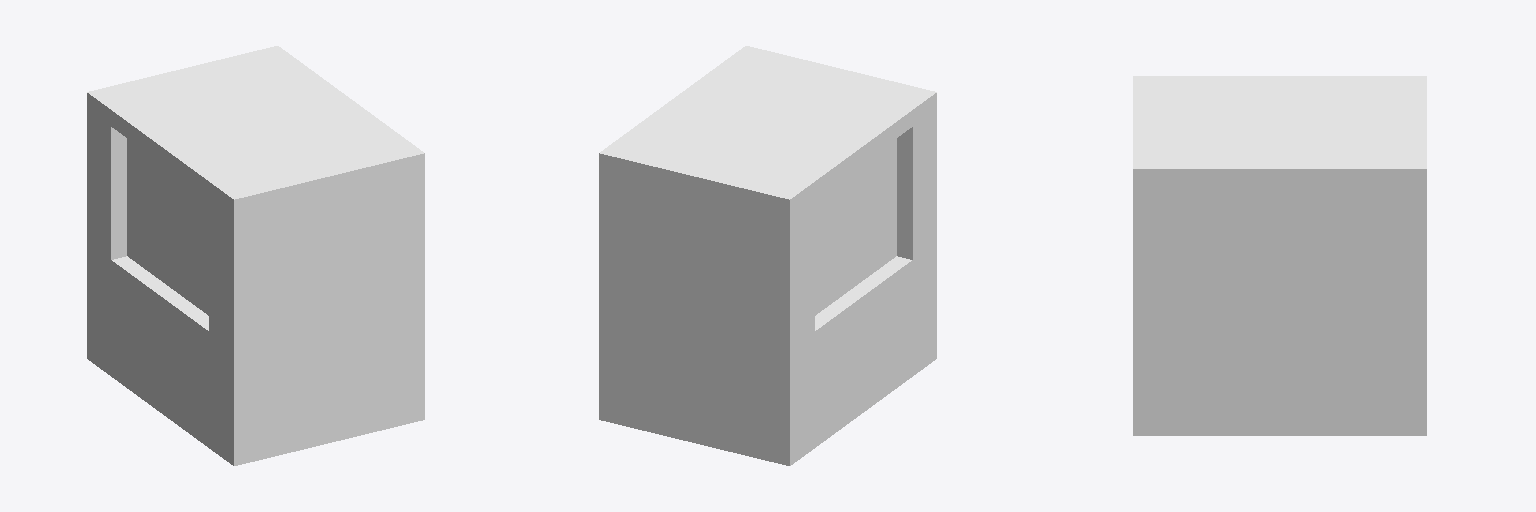
The model's file is viridian-house-2-12.obj.
The picture shows the model from 3 angles: view 1: azimuth 30°, elevation 25°; view 2: azimuth 150°, elevation 25°; view 3: azimuth 270°, elevation 25°; orthographic projection.
Visible parts, largest first — view 1: object 1; view 2: object 1; view 3: object 1.
Boxes of the visible parts, x1=… form: object 1: x1=87, y1=46, x2=424, y2=465; object 1: x1=599, y1=46, x2=936, y2=465; object 1: x1=1133, y1=76, x2=1426, y2=435.
Bounding box in the file's own units: 3.6 × 4.8 × 4.8.